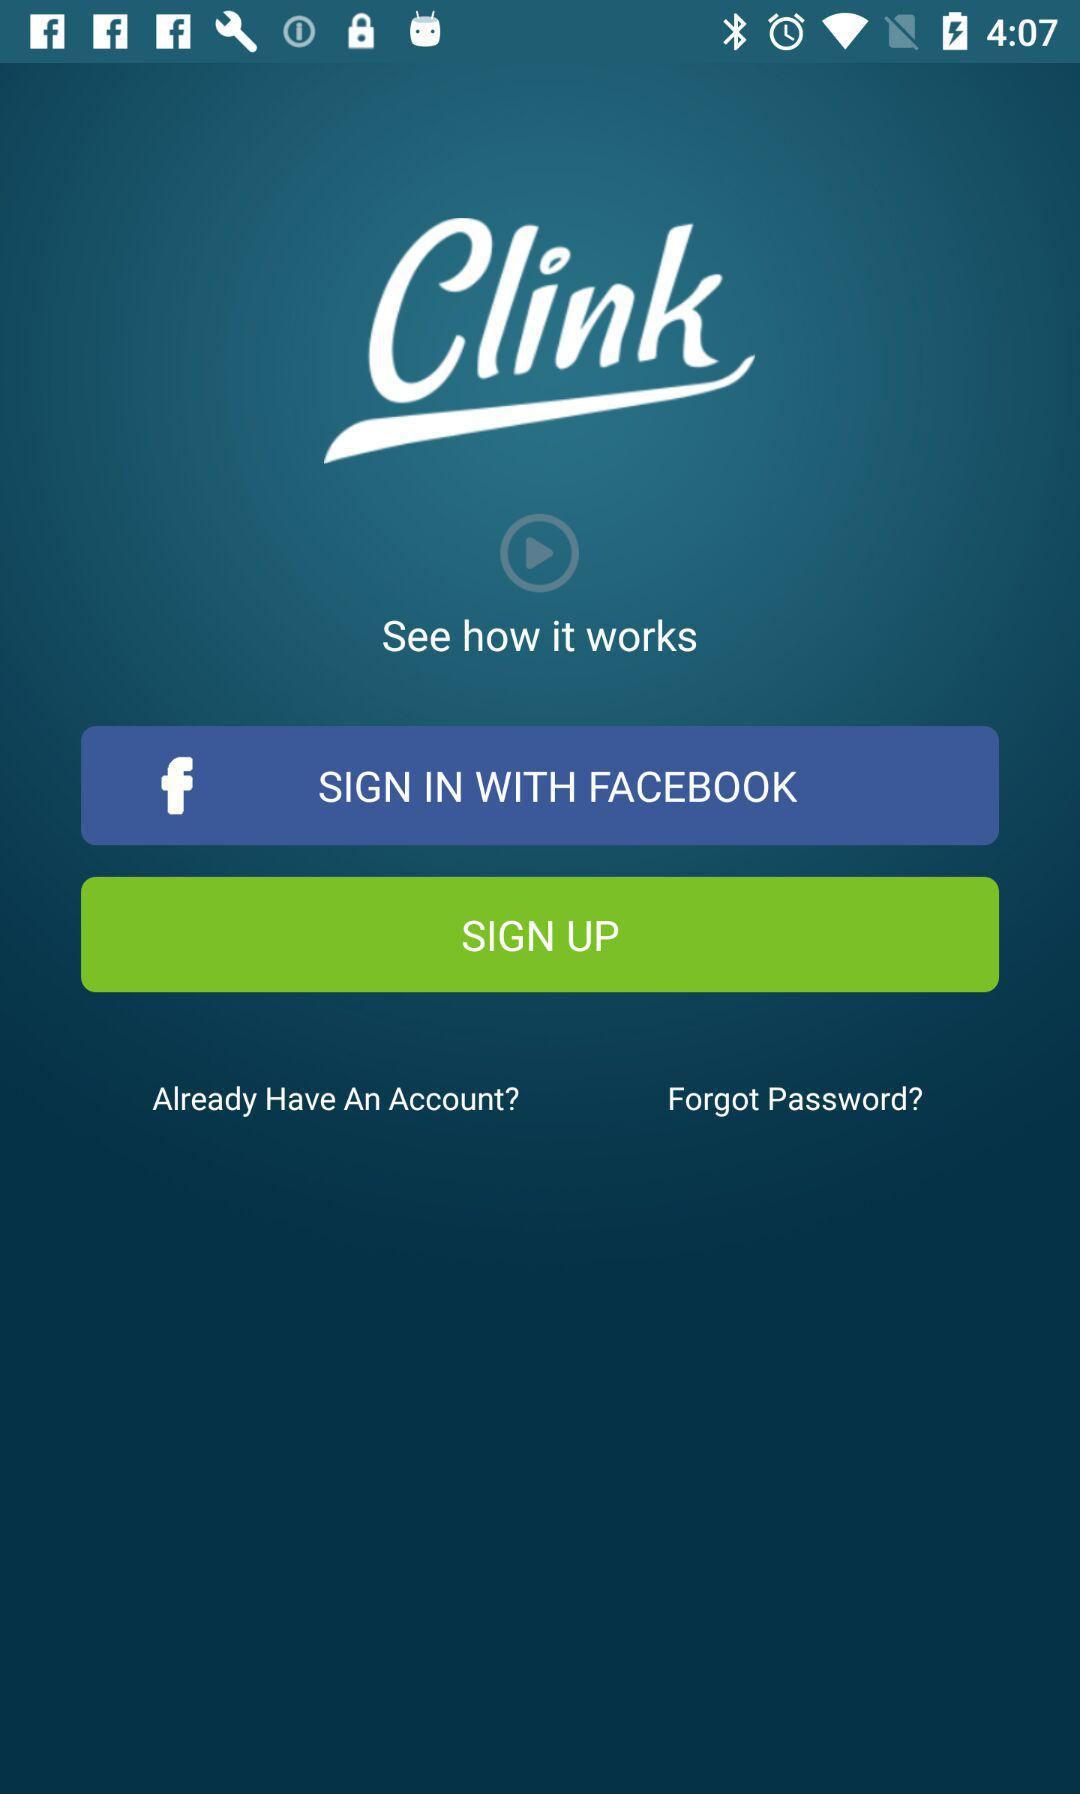Icon: (500, 514, 582, 595)
Image: (322, 218, 758, 465)
Text: (152, 1085, 520, 1119), (382, 616, 698, 654), (667, 1085, 922, 1119)
TextButton: (81, 727, 1001, 846), (81, 876, 1001, 993)
UpperTaskBar: (1, 1, 1080, 64)
